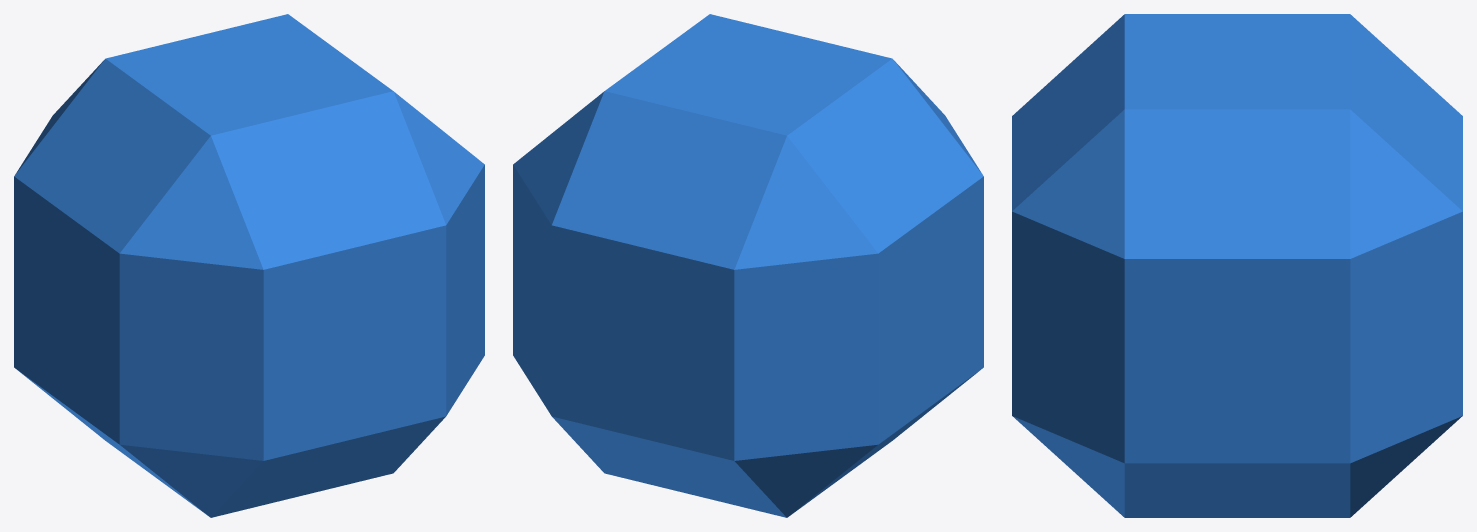
The model's file is robbot4.FBX.
The picture shows the model from 3 angles, left to right: view 1: azimuth 30°, elevation 25°; view 2: azimuth 150°, elevation 25°; view 3: azimuth 270°, elevation 25°; orthographic projection. The views are drawn at different scales.
Visible parts, largest first — view 1: VIFS001; view 2: VIFS001; view 3: VIFS001.
Part boxes in pixels (bbox=[...]): VIFS001: bbox=[14, 14, 484, 517]; VIFS001: bbox=[513, 14, 983, 517]; VIFS001: bbox=[1012, 14, 1462, 517].
Bounding box in the file's own units: 0.2 × 0.2 × 0.2.
